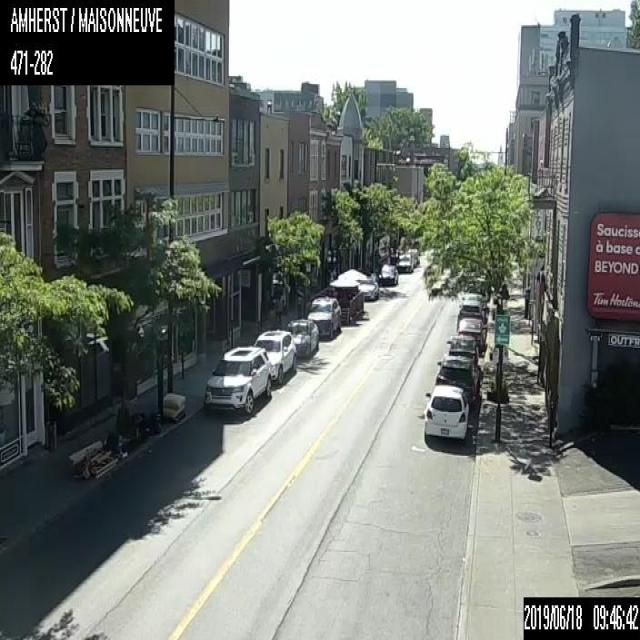vehicle: (202, 345, 271, 415), (423, 384, 469, 444), (252, 330, 296, 383), (436, 354, 480, 399), (305, 294, 341, 338), (284, 318, 318, 358), (457, 317, 486, 352), (445, 334, 478, 364), (456, 300, 485, 331), (461, 292, 486, 311), (357, 278, 378, 298), (378, 264, 397, 286), (395, 253, 413, 272), (406, 247, 420, 264)
